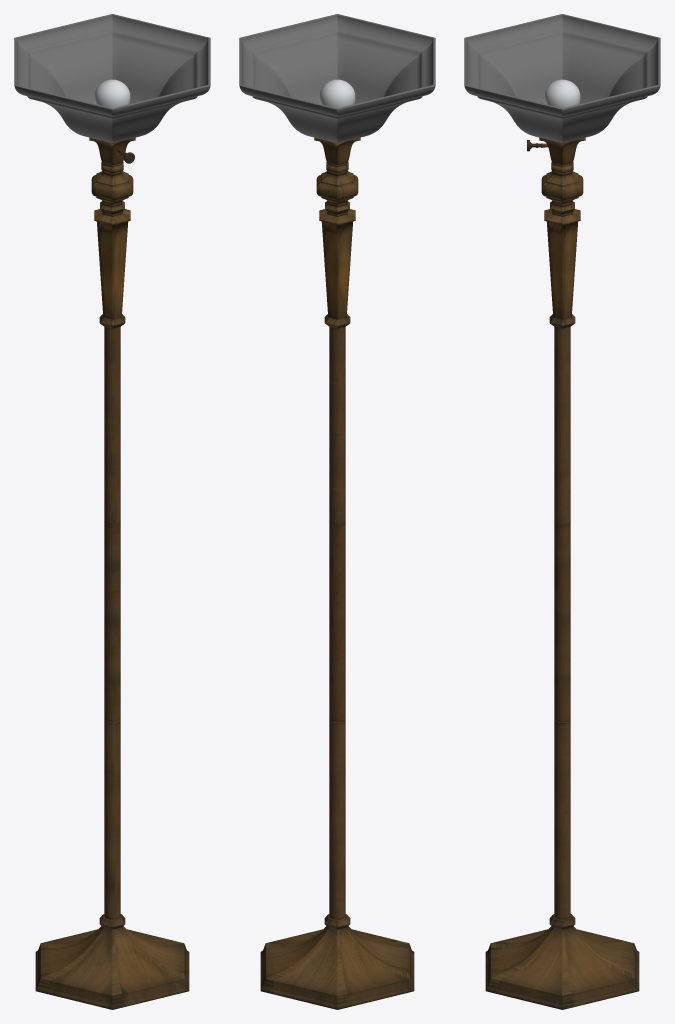
Rendered from lampara_buena.obj.
3 renders of one model, left to right at view 1: azimuth 30°, elevation 25°; view 2: azimuth 150°, elevation 25°; view 3: azimuth 270°, elevation 25°, orthographic.
Parts seen in each view (by area): view 1: 11832_Lamp_v1_l2; view 2: 11832_Lamp_v1_l2; view 3: 11832_Lamp_v1_l2.
Boxes of the visible parts, x1,y1,x2,y2 form: 11832_Lamp_v1_l2: (14, 14, 210, 1009); 11832_Lamp_v1_l2: (239, 14, 435, 1009); 11832_Lamp_v1_l2: (464, 14, 660, 1009).
Bounding box in the file's own units: 41.08 × 183 × 35.67.
3 materials, 1 textured.
